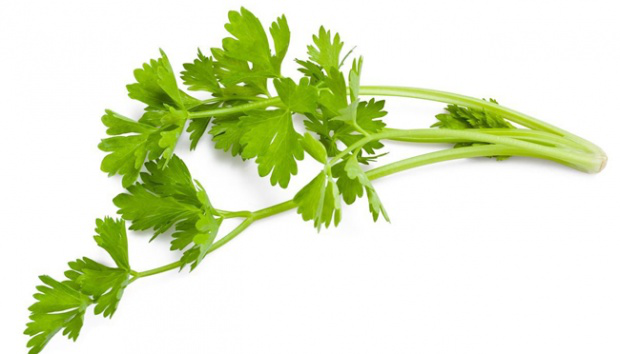Seledri: (96, 37, 601, 317)
